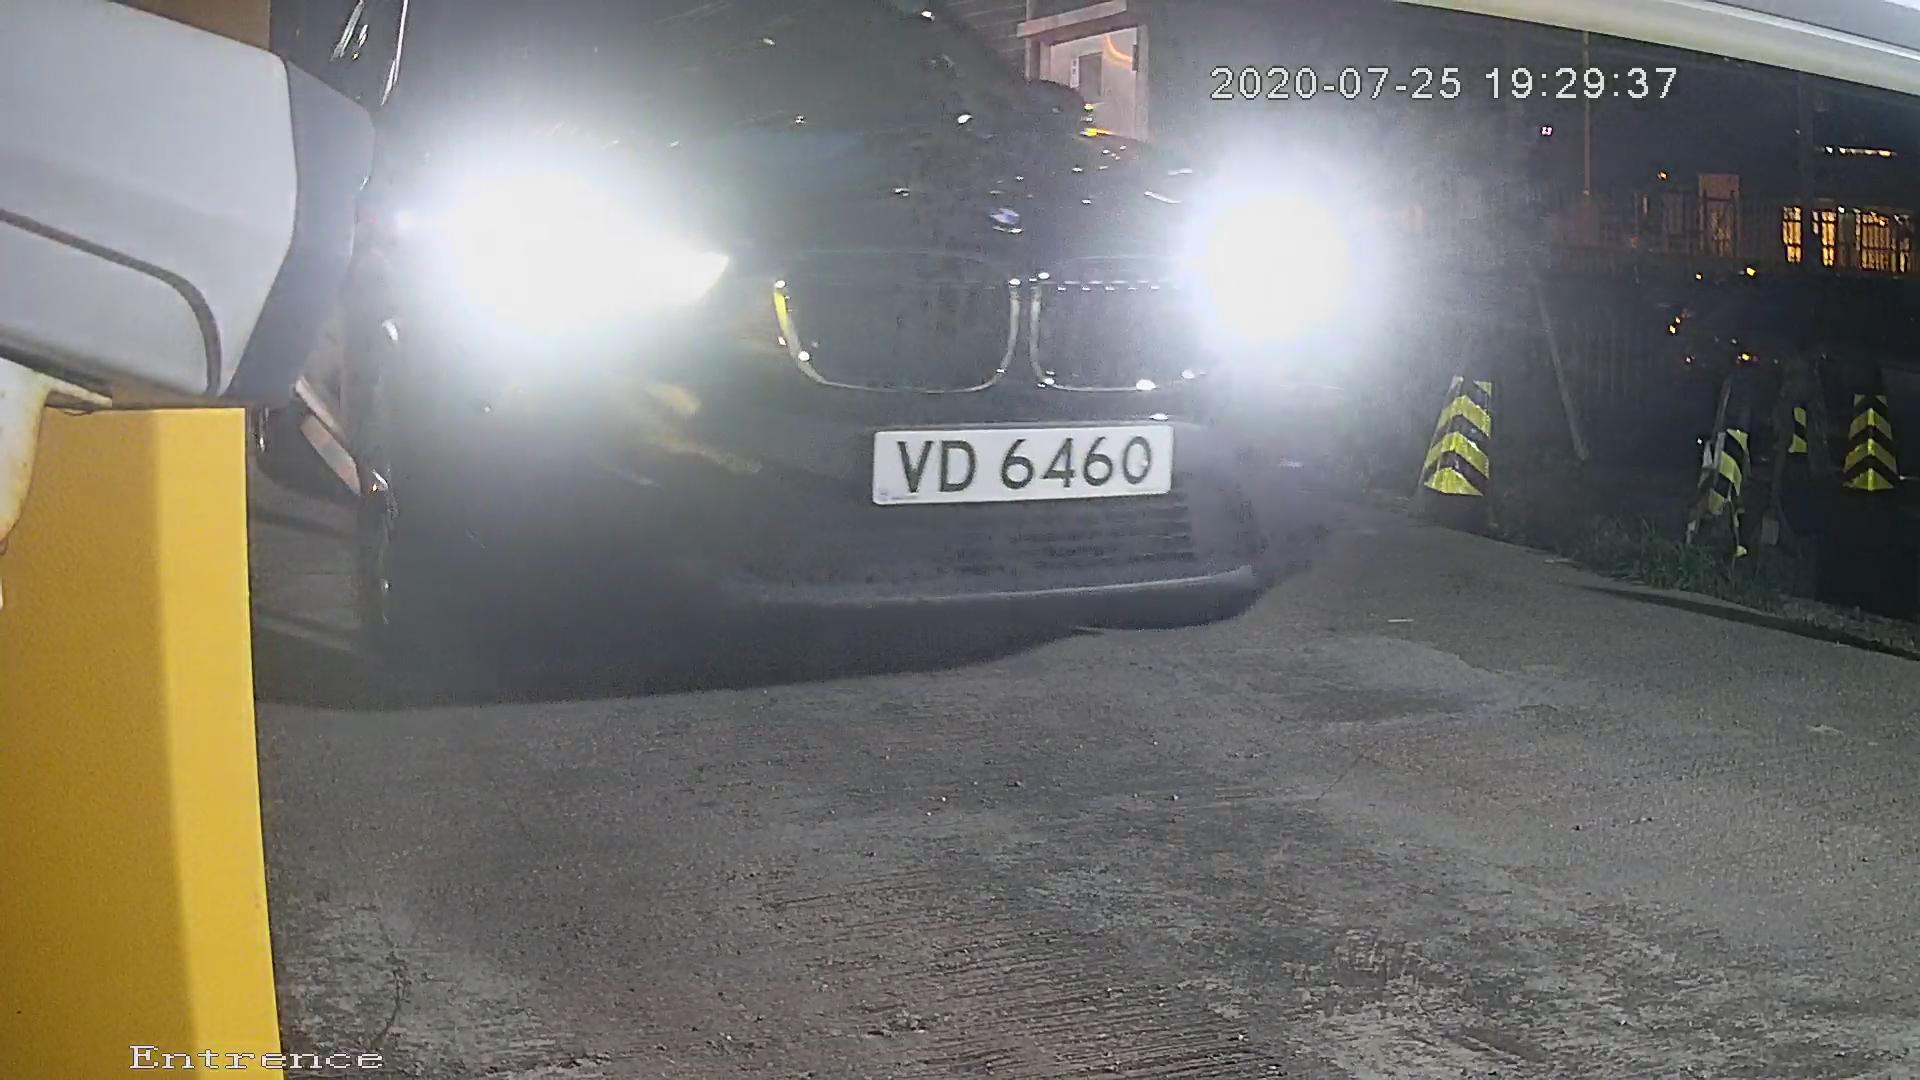Car: (155, 1, 1543, 695)
License Plate: (841, 410, 1209, 516)
